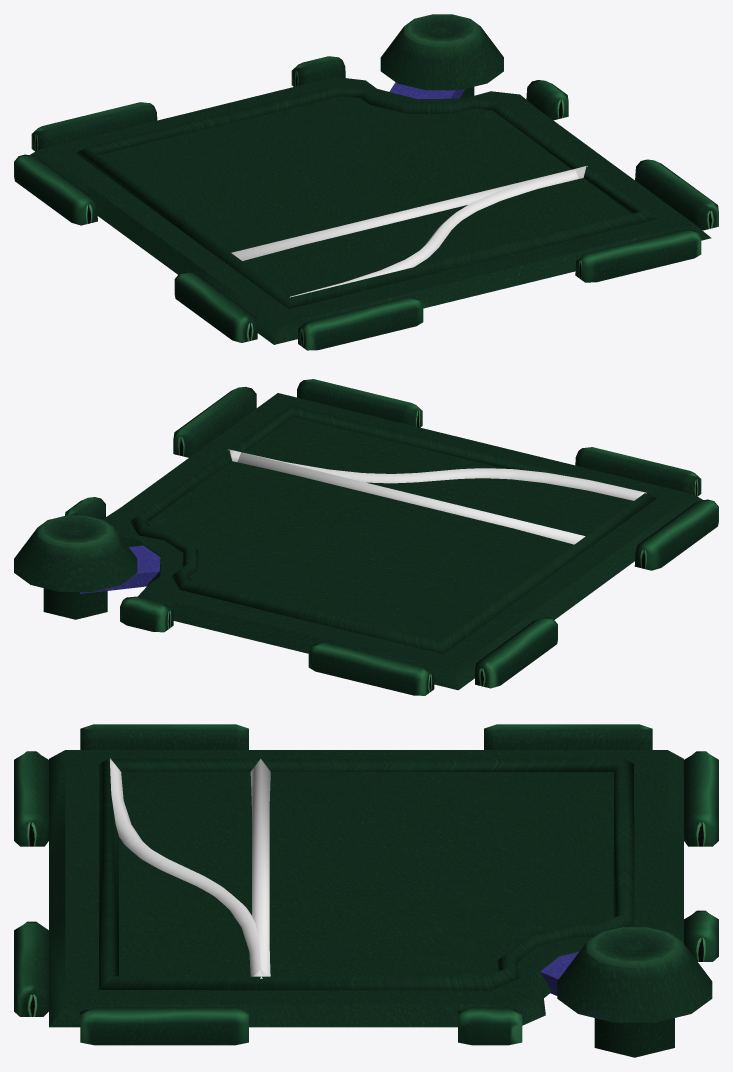
The model's file is Modern.fbx.
3 views of the same model, one above another, from view 1: azimuth 30°, elevation 25°; view 2: azimuth 150°, elevation 25°; view 3: azimuth 270°, elevation 25° (orthographic). The views are drawn at different scales.
Parts seen in each view (by area): view 1: Component_PuzzleBackground, Component_PuzzleBackground.001, Cylinder, Cylinder.001; view 2: Component_PuzzleBackground, Component_PuzzleBackground.001, Cylinder, Cylinder.001; view 3: Component_PuzzleBackground, Component_PuzzleBackground.001, Cylinder.001, Cylinder.
Part boxes in pixels (x1,y1,x2,y2): Component_PuzzleBackground: [14, 14, 718, 350]; Component_PuzzleBackground.001: [76, 85, 656, 308]; Cylinder: [231, 166, 586, 260]; Cylinder.001: [290, 166, 587, 297]; Component_PuzzleBackground: [14, 379, 718, 695]; Component_PuzzleBackground.001: [130, 405, 656, 654]; Cylinder: [232, 450, 585, 544]; Cylinder.001: [228, 449, 646, 500]; Component_PuzzleBackground: [14, 724, 718, 1057]; Component_PuzzleBackground.001: [99, 759, 634, 990]; Cylinder.001: [109, 758, 268, 978]; Cylinder: [250, 759, 270, 976].
Size of the model in its own units: 200 by 29.33 by 200.
2 materials, 2 textured.
